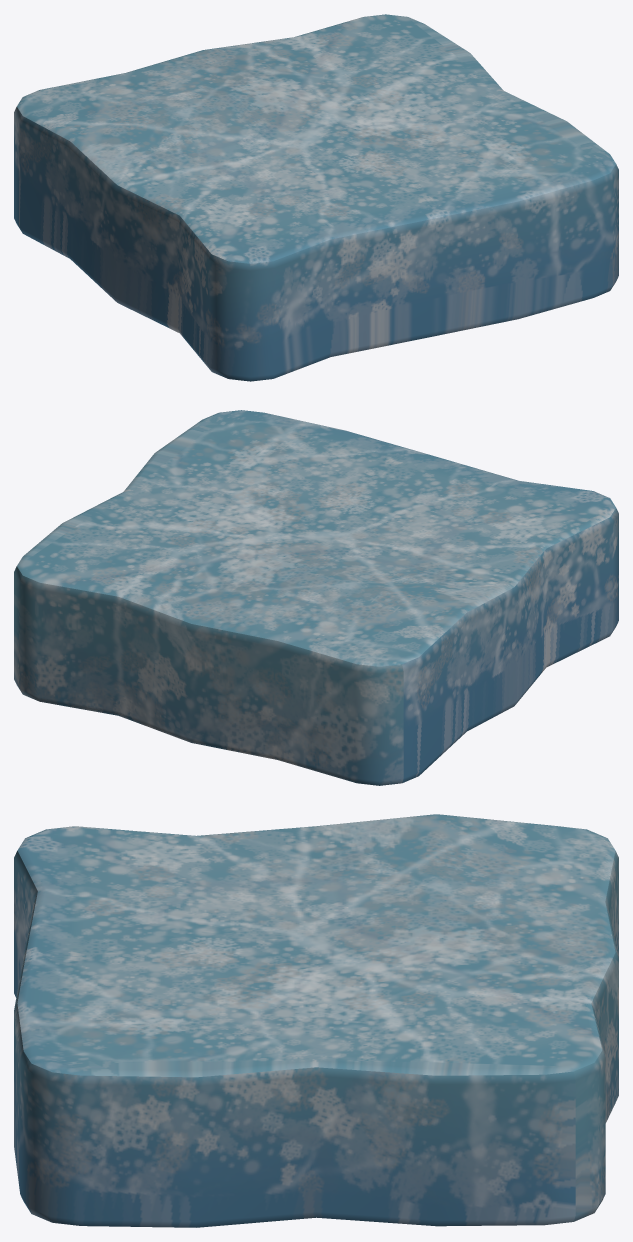
Rendered from 2stage.fbx.
3 renders of one model, top to bottom at view 1: azimuth 30°, elevation 25°; view 2: azimuth 150°, elevation 25°; view 3: azimuth 270°, elevation 25°, orthographic. The views are drawn at different scales.
Visible parts, largest first — view 1: pCube536; view 2: pCube536; view 3: pCube536.
Boxes of the visible parts, x1,y1,x2,y2 form: pCube536: [14, 14, 618, 381]; pCube536: [14, 410, 618, 785]; pCube536: [14, 814, 618, 1227].
Size of the model in its own units: 6.96 by 2.17 by 7.
1 material, 1 textured.
